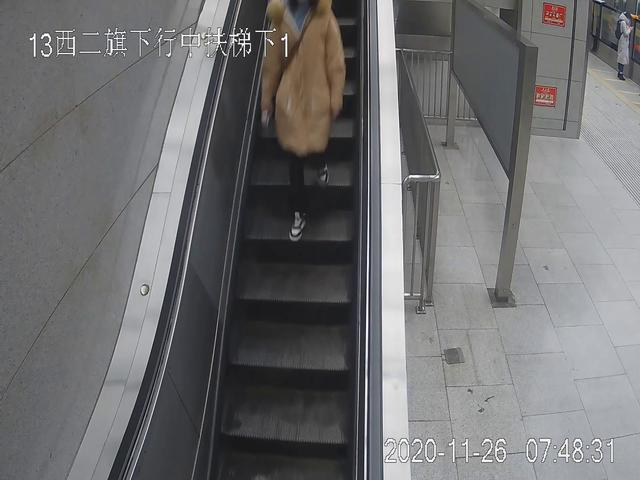person: (259, 1, 345, 242), (613, 8, 634, 81)
